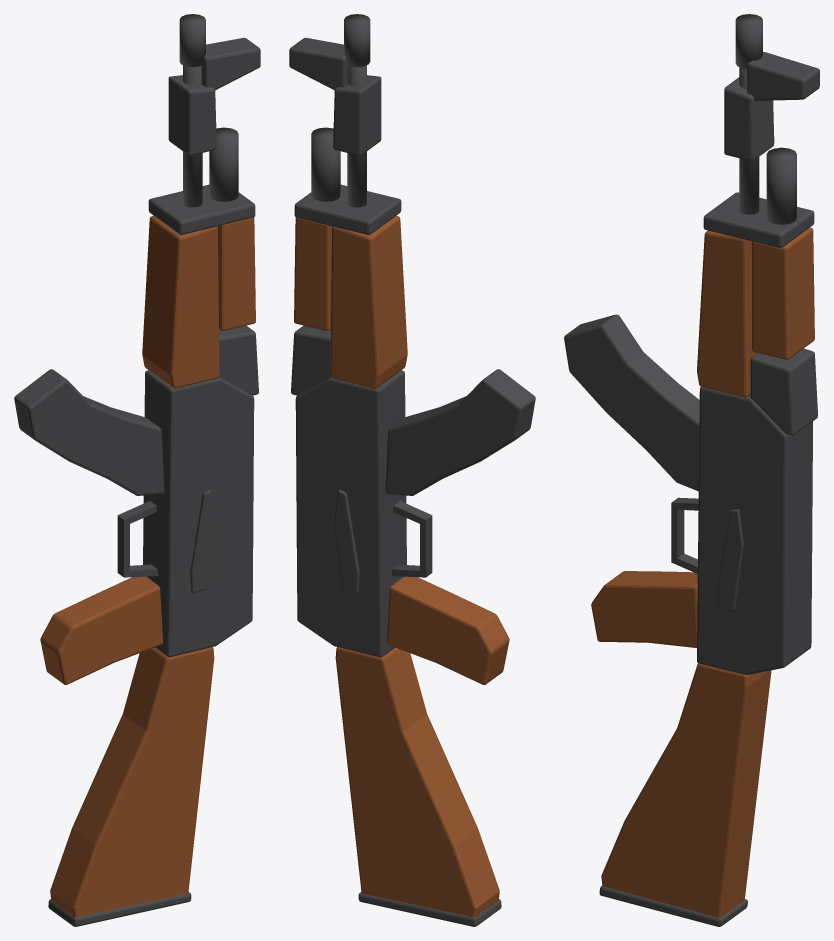
File: rifle.glb
The picture shows the model from 3 angles, left to right: view 1: azimuth 30°, elevation 25°; view 2: azimuth 150°, elevation 25°; view 3: azimuth 330°, elevation 25°; orthographic projection. The views are drawn at different scales.
Parts seen in each view (by area): view 1: Stock, Receiver, LowerGuard, Magazine, Grip, UpperGuard, FrontSightBlock, Band, RearSight, FrontSight, GasTube, Lever (+4 smaller); view 2: Stock, Receiver, LowerGuard, Magazine, Grip, UpperGuard, FrontSightBlock, Band, RearSight, FrontSight, GasTube, Lever (+4 smaller); view 3: Receiver, Stock, Magazine, LowerGuard, Grip, UpperGuard, RearSight, FrontSightBlock, Band, FrontSight, GasTube, Lever (+4 smaller).
Part boxes in pixels (<box>): Stock: <box>50,647,214,917</box>; Receiver: <box>143,370,254,657</box>; LowerGuard: <box>142,215,219,388</box>; Magazine: <box>14,369,164,495</box>; Grip: <box>40,576,163,684</box>; UpperGuard: <box>217,217,255,330</box>; FrontSightBlock: <box>168,75,216,155</box>; Band: <box>148,184,255,234</box>; RearSight: <box>219,325,258,395</box>; FrontSight: <box>201,37,260,90</box>; GasTube: <box>209,127,238,201</box>; Lever: <box>190,489,215,592</box>; Stock: <box>335,647,499,917</box>; Receiver: <box>295,370,406,657</box>; LowerGuard: <box>330,215,407,388</box>; Magazine: <box>385,369,535,495</box>; Grip: <box>386,576,509,684</box>; UpperGuard: <box>294,217,332,330</box>; FrontSightBlock: <box>333,75,381,155</box>; Band: <box>294,184,401,234</box>; RearSight: <box>291,325,330,395</box>; FrontSight: <box>289,37,348,90</box>; GasTube: <box>311,127,340,201</box>; Lever: <box>334,489,359,592</box>; Receiver: <box>697,387,812,674</box>; Stock: <box>601,663,771,917</box>; Magazine: <box>564,314,699,491</box>; LowerGuard: <box>697,230,756,397</box>; Grip: <box>591,571,697,647</box>; UpperGuard: <box>752,227,814,359</box>; RearSight: <box>750,348,817,435</box>; FrontSightBlock: <box>724,77,774,160</box>; Band: <box>703,192,814,247</box>; FrontSight: <box>747,52,819,100</box>; GasTube: <box>766,147,796,224</box>; Lever: <box>717,509,743,610</box>.
Bounding box in the file's own units: 0.2465 × 0.8813 × 0.06.
